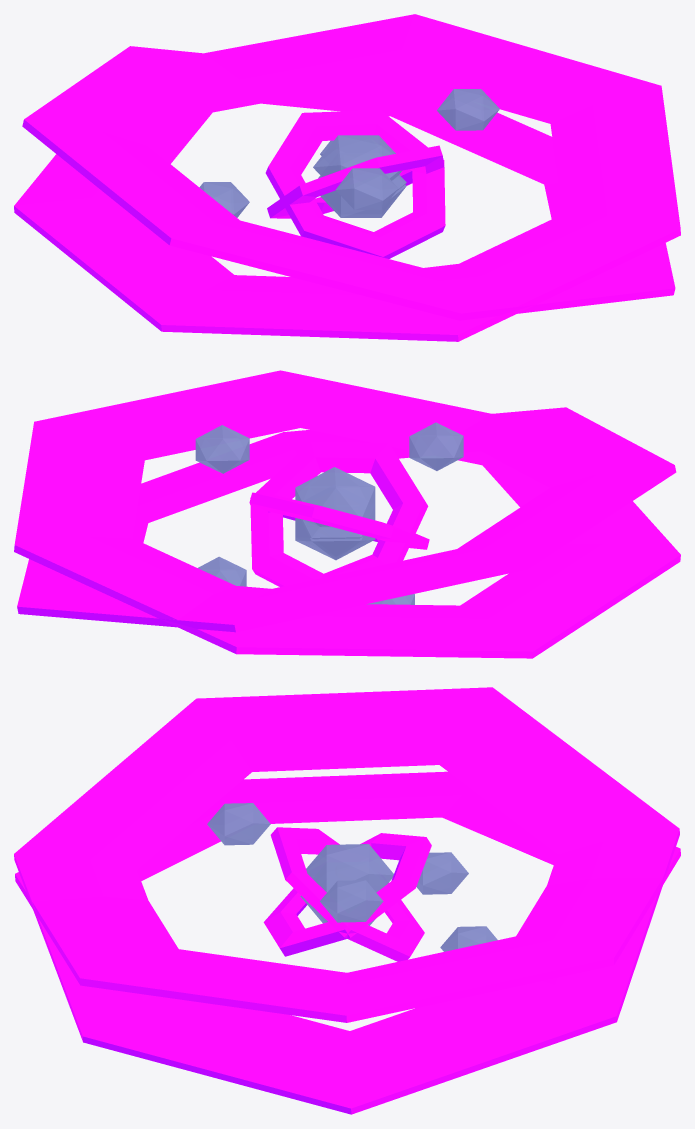
The model's file is blackhole.fbx.
3 views of the same model, one above another, from view 1: azimuth 30°, elevation 25°; view 2: azimuth 150°, elevation 25°; view 3: azimuth 270°, elevation 25° (orthographic).
Visible parts, largest first — view 1: pTorus4, pTorus3, pTorus1, pTorus2, pPlatonic4, pPlatonic7, pPlatonic2, pPlatonic6, pPlatonic5; view 2: pTorus4, pTorus3, pTorus2, pTorus1, pPlatonic4, pPlatonic2, pPlatonic7, pPlatonic5, pPlatonic1, pPlatonic3; view 3: pTorus3, pTorus4, pTorus1, pTorus2, pPlatonic4, pPlatonic7, pPlatonic2, pPlatonic6, pPlatonic3.
Boxes of the visible parts, x1,y1,x2,y2 form: pTorus4: (14, 14, 680, 341); pTorus3: (22, 46, 675, 320); pTorus1: (265, 110, 445, 258); pTorus2: (267, 145, 444, 218); pPlatonic4: (313, 135, 401, 196); pPlatonic7: (437, 89, 499, 130); pPlatonic2: (335, 168, 398, 209); pPlatonic6: (199, 182, 249, 217); pPlatonic5: (320, 184, 406, 217); pTorus4: (14, 370, 680, 658); pTorus3: (17, 407, 676, 632); pTorus2: (250, 441, 428, 586); pTorus1: (249, 492, 429, 549); pPlatonic4: (295, 467, 375, 526); pPlatonic2: (409, 422, 463, 470); pPlatonic7: (195, 425, 249, 473); pPlatonic5: (295, 508, 375, 560); pPlatonic1: (295, 505, 375, 539); pPlatonic3: (198, 556, 246, 586); pTorus3: (14, 687, 679, 1114); pTorus4: (15, 771, 680, 1022); pTorus1: (263, 833, 431, 956); pTorus2: (270, 827, 424, 961); pPlatonic4: (306, 844, 393, 892); pPlatonic7: (320, 880, 383, 922); pPlatonic2: (207, 803, 270, 845); pPlatonic6: (416, 852, 468, 894); pPlatonic3: (440, 926, 497, 951).
Size of the model in its own units: 171 by 43.84 by 172.
